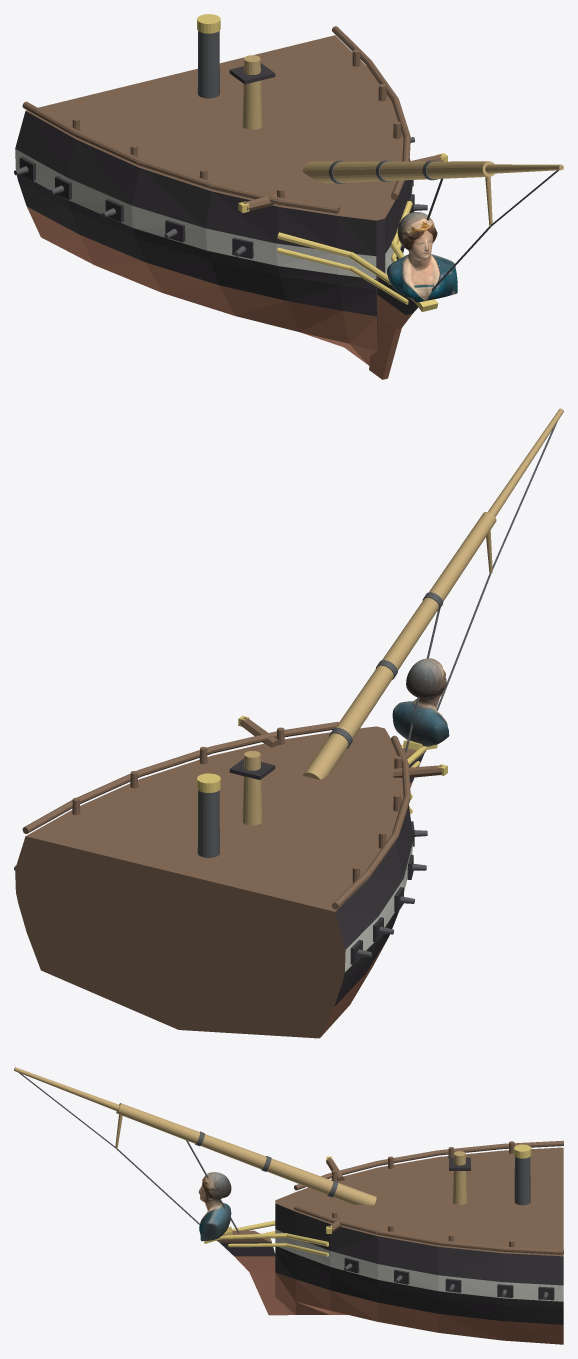
File: topaze.glb
3 views of the same model, one above another, from view 1: azimuth 30°, elevation 25°; view 2: azimuth 150°, elevation 25°; view 3: azimuth 270°, elevation 25° (orthographic). The views are drawn at different scales.
Visible parts, largest first — view 1: topaze_ParentBow, topaze_Figurehead; view 2: topaze_ParentBow, topaze_Figurehead; view 3: topaze_ParentBow, topaze_Figurehead.
Part boxes in pixels (bbox=[...]): topaze_ParentBow: bbox=[14, 14, 563, 379]; topaze_Figurehead: bbox=[387, 212, 457, 302]; topaze_ParentBow: bbox=[14, 408, 563, 1038]; topaze_Figurehead: bbox=[392, 658, 449, 746]; topaze_ParentBow: bbox=[14, 1067, 563, 1344]; topaze_Figurehead: bbox=[198, 1172, 231, 1241].
Size of the model in its own units: 14.39 by 13.24 by 26.72.
2 materials, 2 textured.
